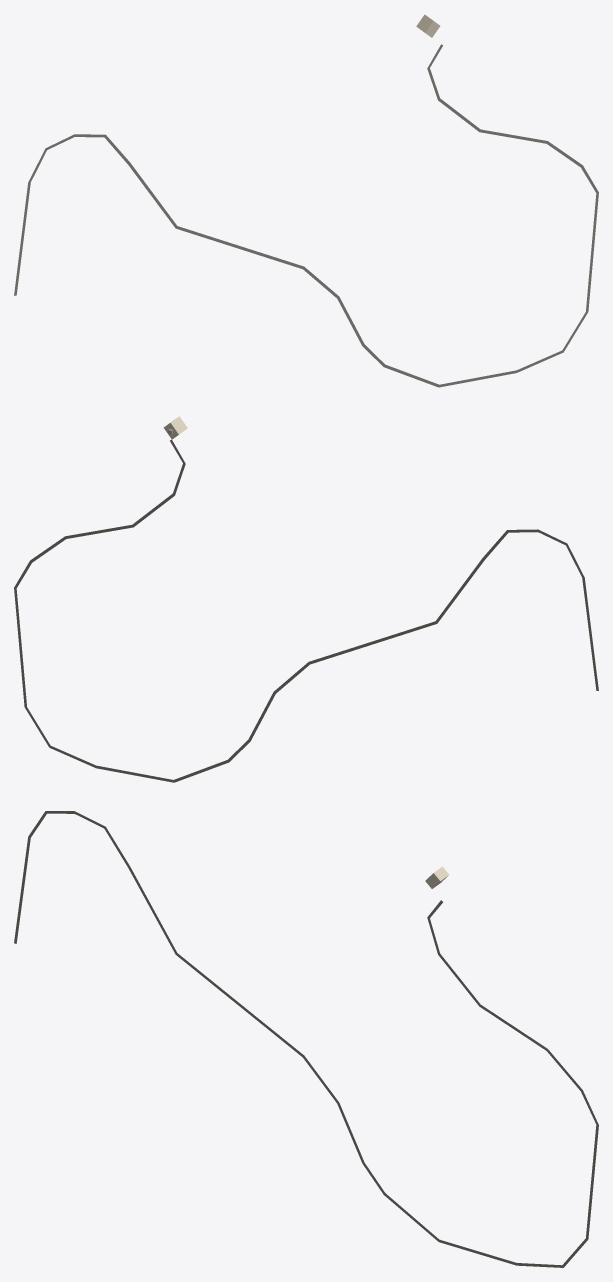
File: historic-palestine-07_01_3489_2951.glb
3 views of the same model, one above another, from view 1: azimuth 30°, elevation 25°; view 2: azimuth 150°, elevation 25°; view 3: azimuth 330°, elevation 25° (orthographic).
Visible parts, largest first — view 1: Road טאבה-הר צפחות; view 2: Road טאבה-הר צפחות; view 3: Road טאבה-הר צפחות.
Boxes of the visible parts, bbox=[...] form: Road טאבה-הר צפחות: bbox=[14, 44, 598, 387]; Road טאבה-הר צפחות: bbox=[14, 439, 598, 782]; Road טאבה-הר צפחות: bbox=[14, 811, 598, 1267].
Bounding box in the file's own units: 284 × 173 × 8.7.
